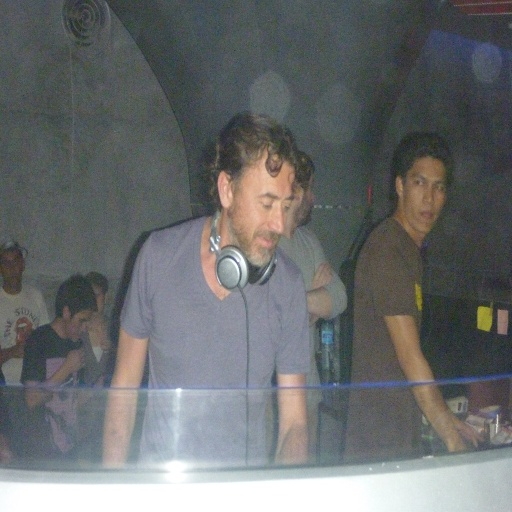hand: (310, 259, 333, 320), (65, 346, 85, 373), (457, 419, 480, 442), (90, 372, 106, 404), (99, 337, 115, 354), (14, 339, 26, 357)
